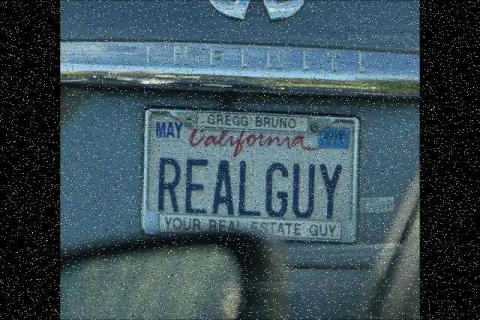LicensePlate: (138, 96, 368, 255)
